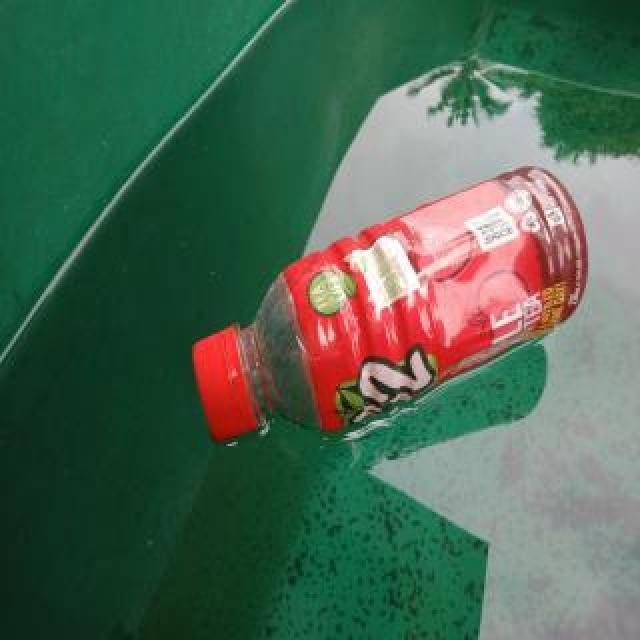bottle: (192, 167, 590, 445)
